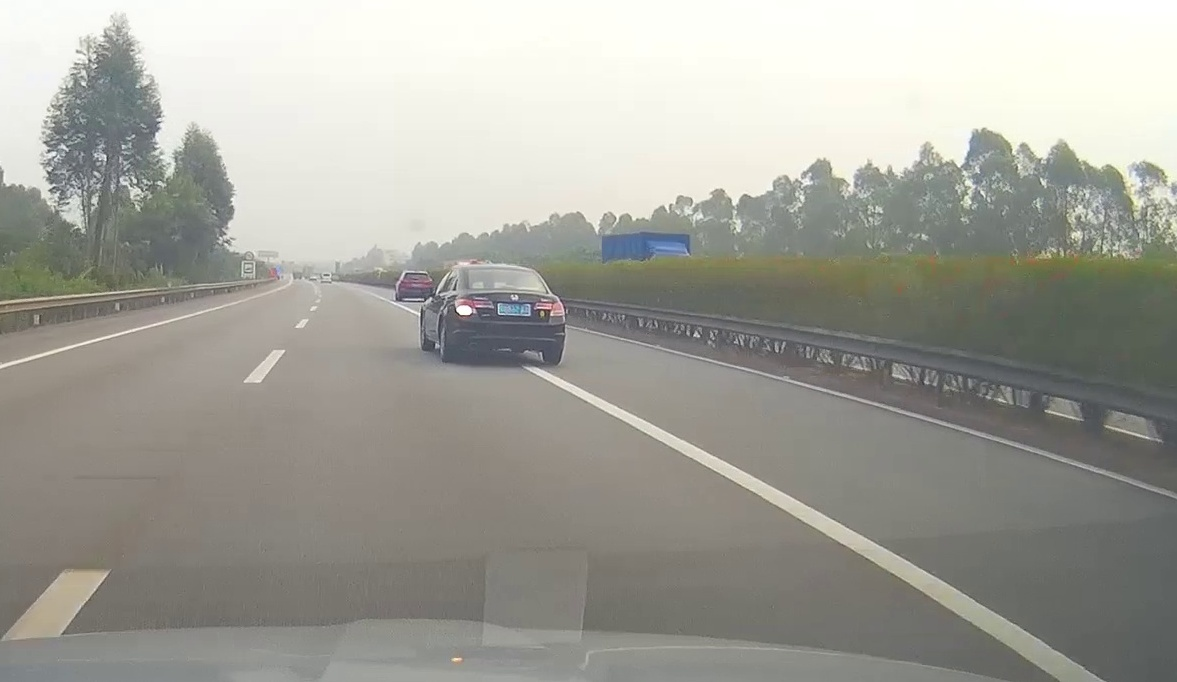L_light: (454, 299, 495, 315), (399, 281, 407, 287)
R_light: (534, 302, 565, 317), (425, 281, 433, 288)
T_light: (494, 268, 509, 270), (412, 272, 420, 274)
day-left: (442, 265, 566, 364)
day-no: (396, 271, 435, 301)
